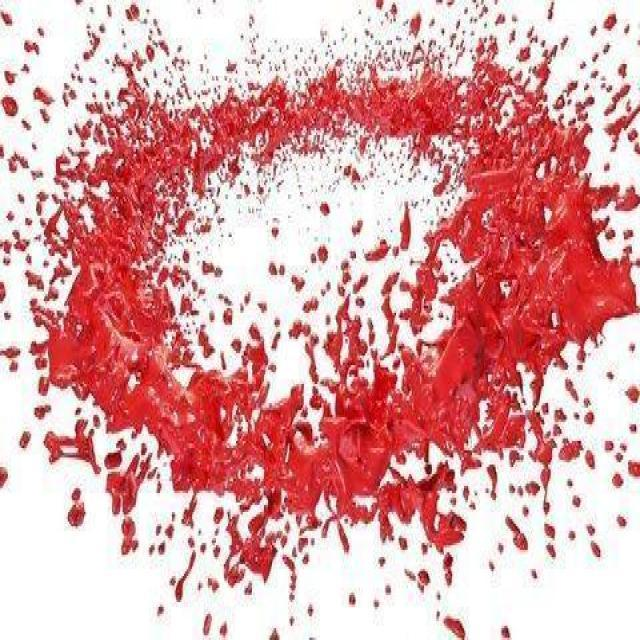flood: (42, 30, 620, 548)
